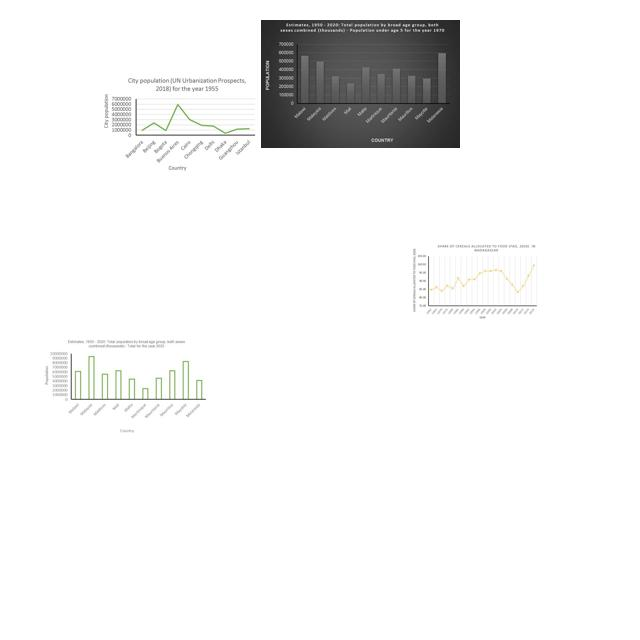Graph: (261, 20, 460, 148), (43, 337, 209, 434), (101, 74, 259, 172), (410, 242, 539, 320)
